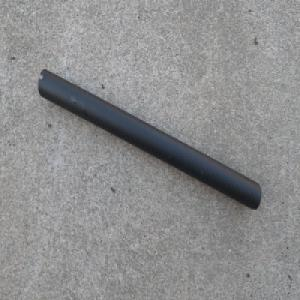LuggagePart: (37, 68, 261, 210)
